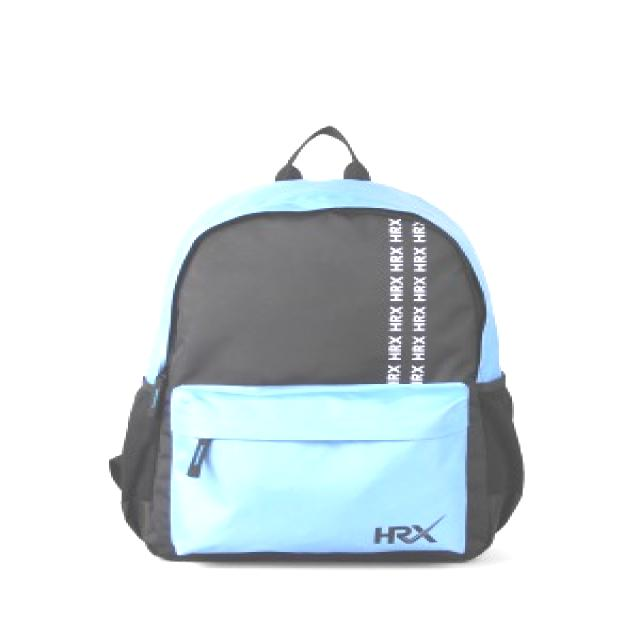backpack: (108, 124, 526, 564)
